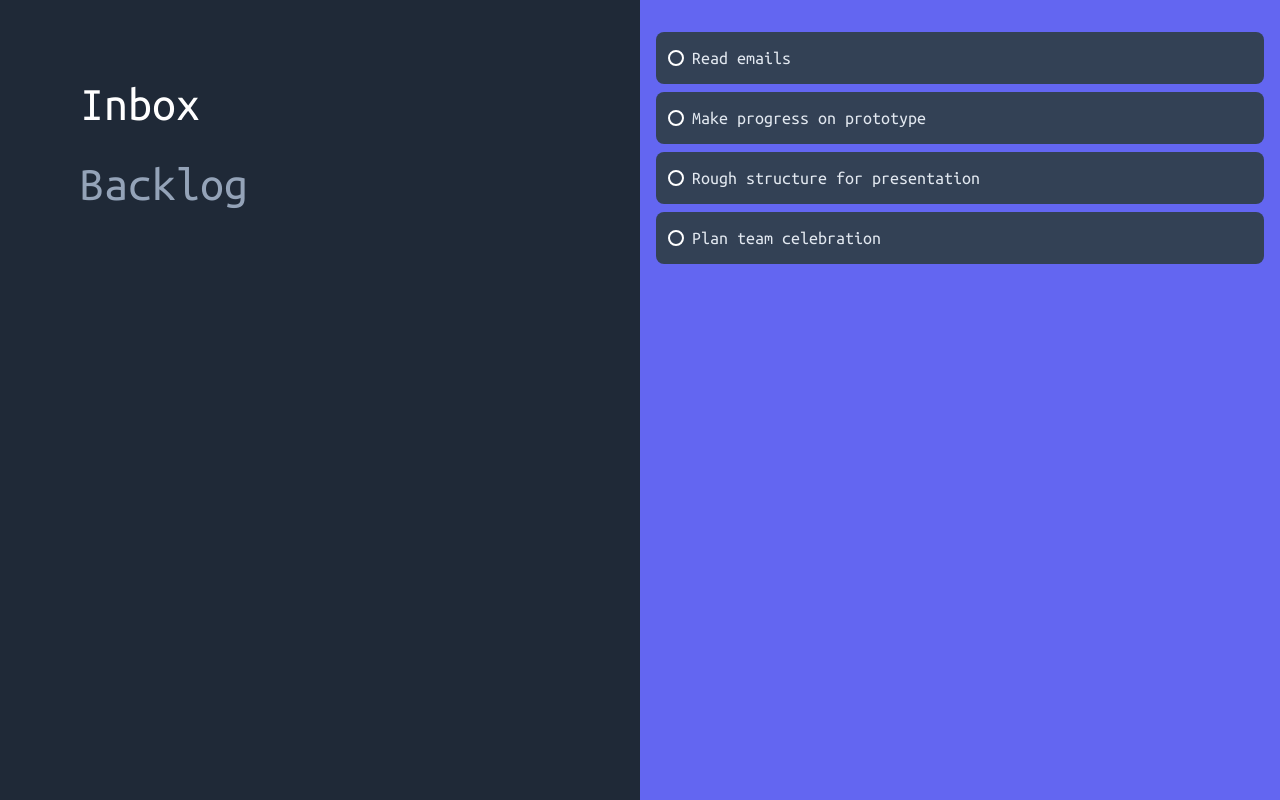
Test: ListsViews › can select list
The image size is (1280, 800).
Expected: the text "Read emails" is shown, 692,44 -> 791,72
Expected: the text "Biggy thinky" is not shown
Click the list item "Backlog" at (164, 184), box 80,160 -> 248,208
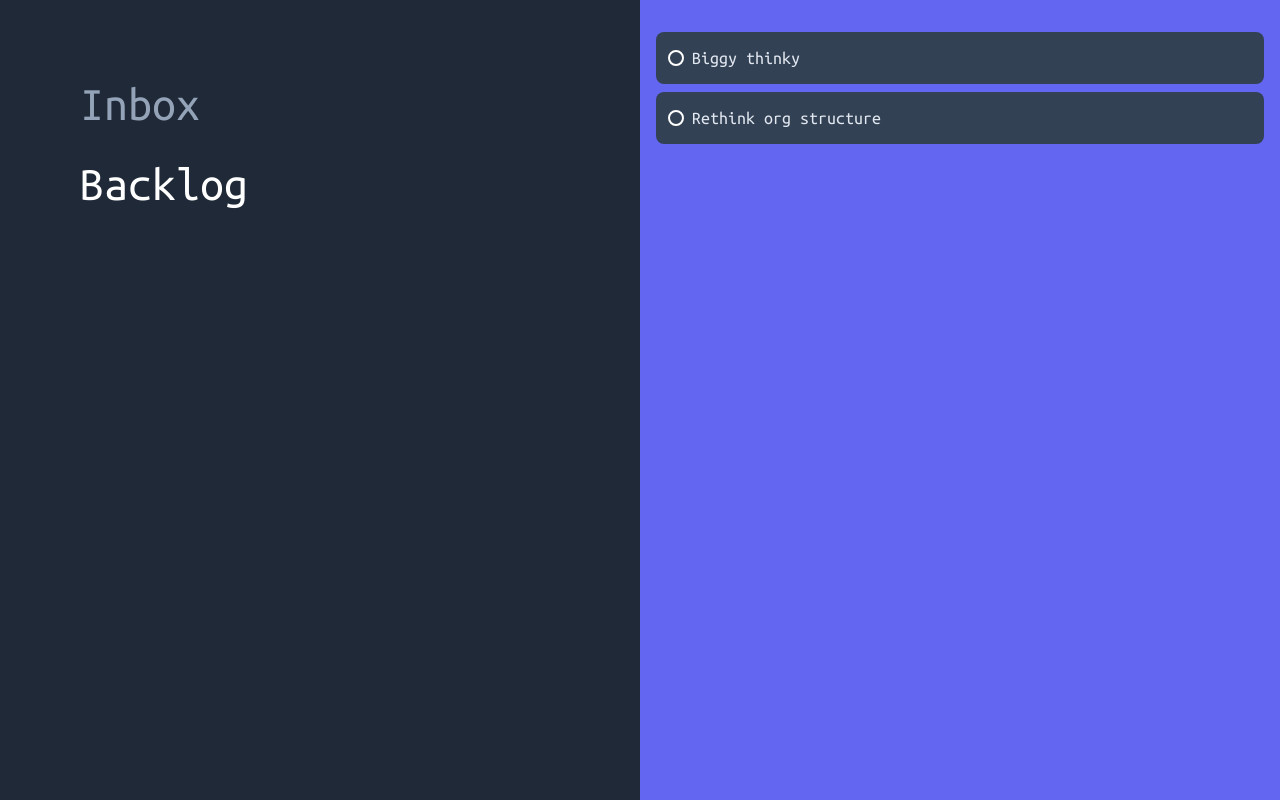
Result: the text "Read emails" is gone
Result: the text "Biggy thinky" is shown at 692,44 -> 800,72
